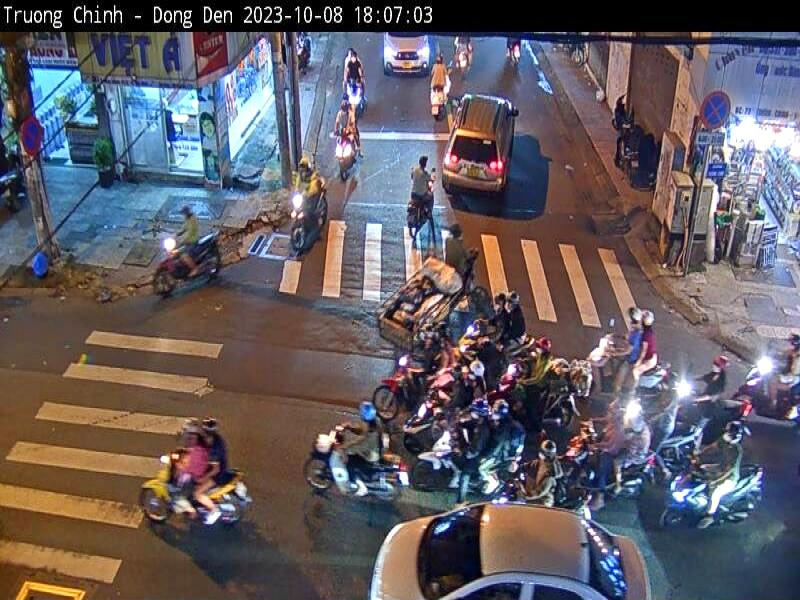car: (373, 499, 654, 600), (442, 93, 517, 196), (380, 34, 428, 75)
